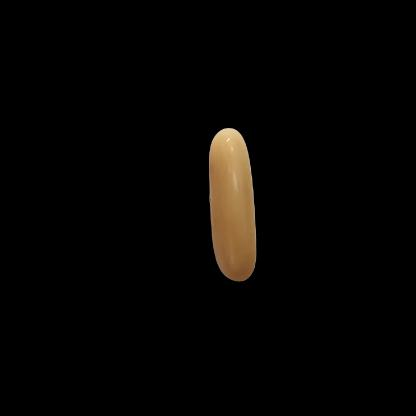t-muse: (192, 117, 277, 294)
